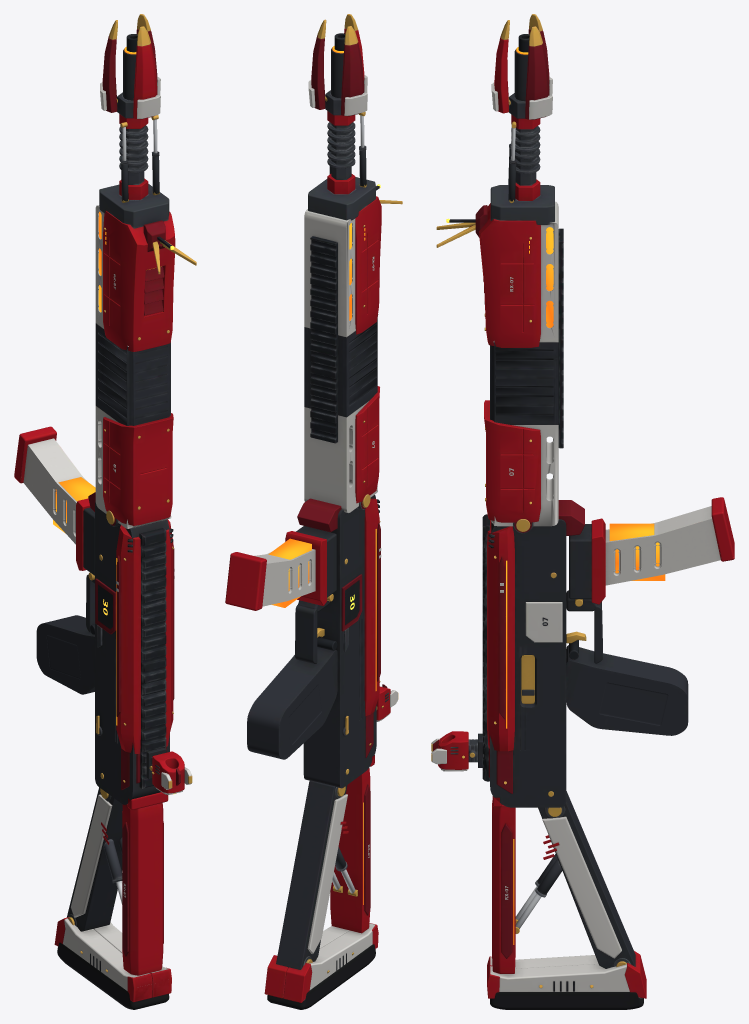
The model's file is crimson_titan.glb.
3 views of the same model, side by side, from view 1: azimuth 30°, elevation 25°; view 2: azimuth 150°, elevation 25°; view 3: azimuth 270°, elevation 25° (orthographic). The views are drawn at different scales.
Parts seen in each view (by area): view 1: root.body, root.stock, mag.body, root.barrel, root.muz.claw_u, root.ironr, root.muz.claw_l, root.muz, root.irons, mag.body~cm_glow, root.body.screen, bolt.body; view 2: root.body, root.stock, mag.body, root.barrel, root.muz.claw_l, root.muz.claw_r, root.muz, mag.body~cm_glow, root.ironr, root.body.screen; view 3: root.body, root.stock, mag.body, root.barrel, root.muz.claw_r, root.ironr, root.muz.claw_u, root.muz, mag.body~cm_glow, bolt.body, root.irons.
Part boxes in pixels (box(x1,y1,x2,y2)): root.body: box(36, 184, 175, 804); root.stock: box(54, 787, 171, 1009); mag.body: box(14, 426, 87, 544); root.barrel: box(119, 114, 159, 202); root.muz.claw_u: box(133, 26, 160, 119); root.ironr: box(146, 747, 192, 795); root.muz.claw_l: box(100, 20, 117, 112); root.muz: box(116, 34, 137, 118); root.irons: box(143, 220, 196, 274); mag.body~cm_glow: box(53, 477, 95, 533); root.body.screen: box(98, 584, 112, 629); bolt.body: box(127, 792, 168, 809); root.body: box(247, 177, 381, 788); root.stock: box(264, 768, 378, 1009); mag.body: box(225, 549, 315, 610); root.barrel: box(327, 111, 366, 194); root.muz.claw_l: box(341, 26, 367, 116); root.muz.claw_r: box(308, 19, 326, 109); root.muz: box(325, 33, 345, 115); mag.body~cm_glow: box(268, 538, 311, 607); root.ironr: box(376, 684, 398, 721); root.body.screen: box(345, 580, 359, 625); root.body: box(479, 185, 688, 807); root.stock: box(487, 791, 646, 1009); mag.body: box(605, 497, 734, 585); root.barrel: box(508, 114, 540, 203); root.muz.claw_r: box(525, 26, 552, 119); root.ironr: box(431, 731, 482, 771); root.muz.claw_u: box(491, 20, 509, 113); root.muz: box(508, 34, 529, 118); mag.body~cm_glow: box(609, 523, 665, 580); bolt.body: box(492, 655, 534, 806); root.irons: box(436, 205, 487, 247).
Size of the model in its own units: 0.0533 by 0.853 by 0.239.
7 materials, 5 textured.
